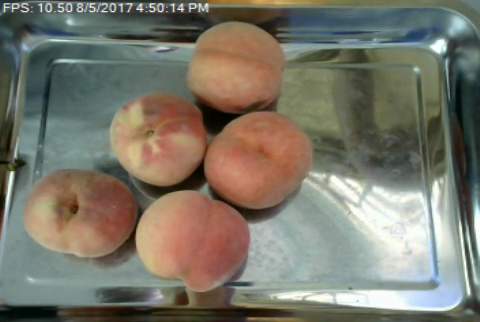Peach: (133, 189, 248, 290), (206, 110, 309, 209), (24, 167, 137, 257), (108, 89, 207, 186), (187, 21, 284, 113)
